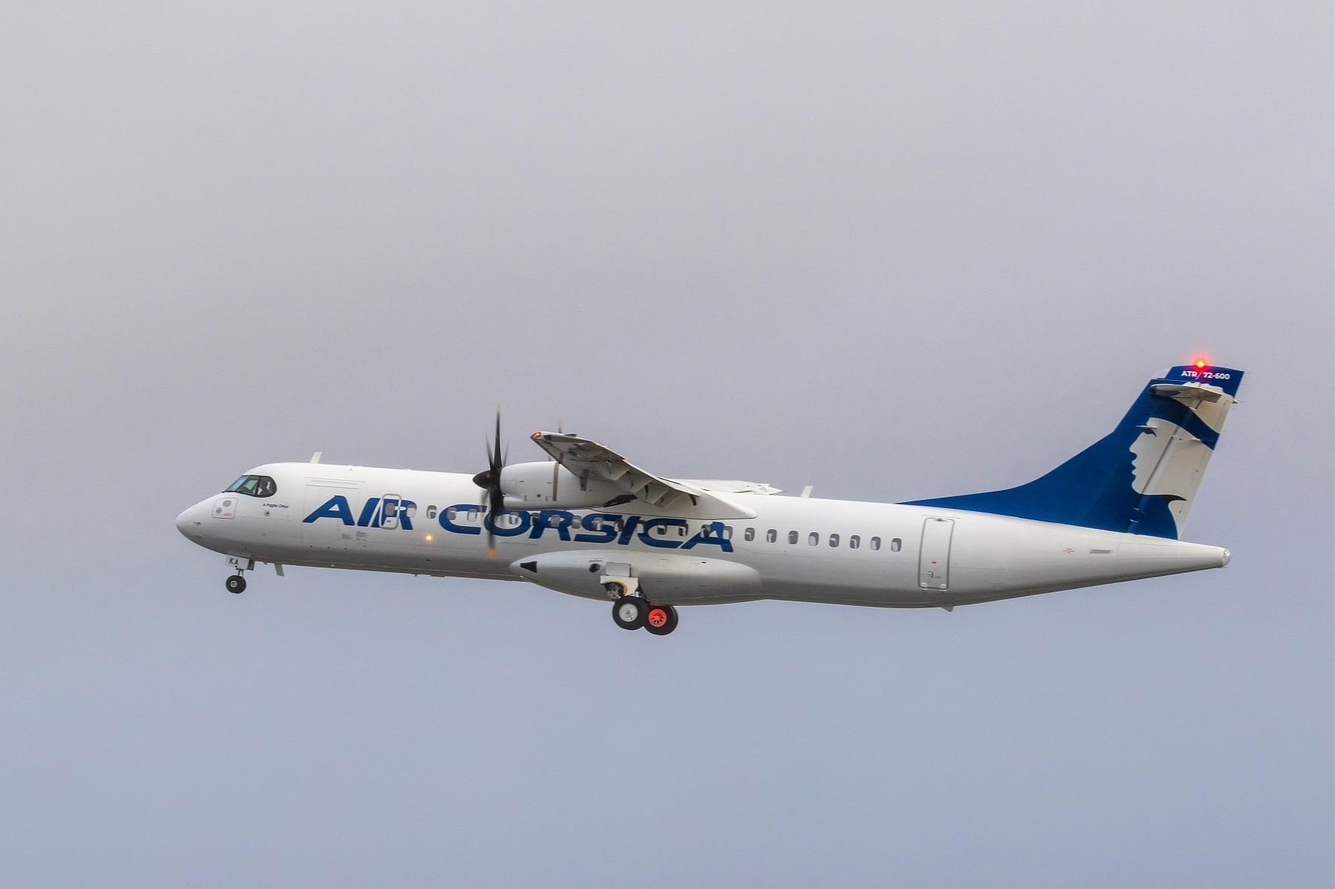aircraft: (185, 347, 1253, 633)
